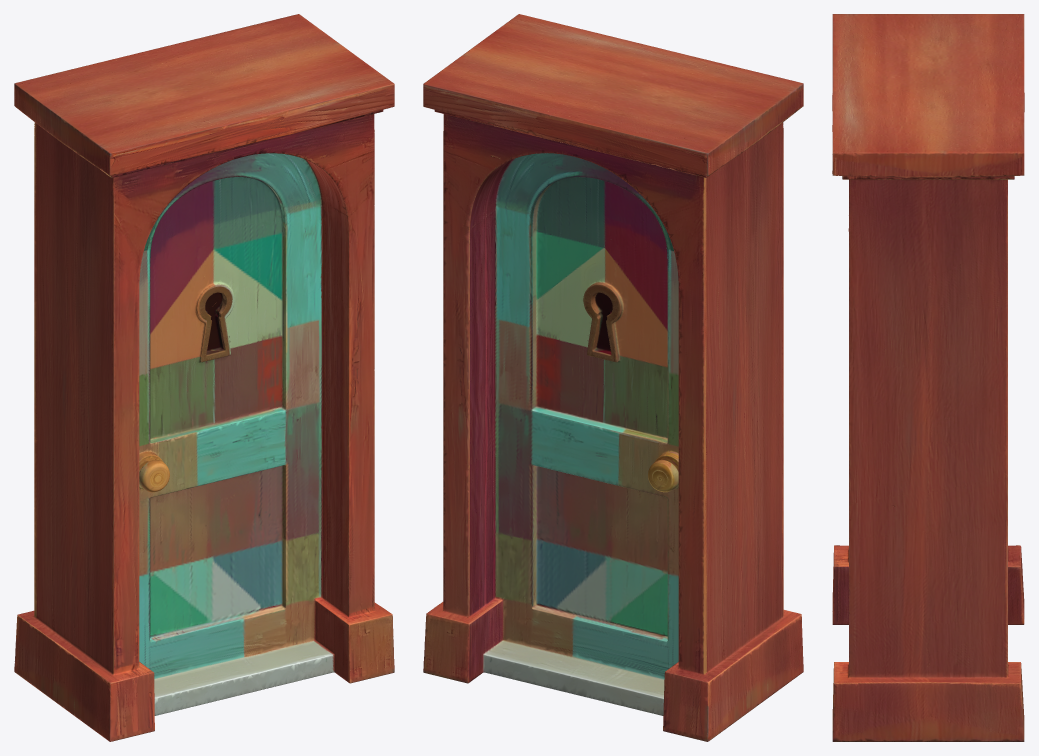
Rendered from Meshy_AI_Patchwork_Door_0417172344_texture.fbx.
The picture shows the model from 3 angles, left to right: view 1: azimuth 30°, elevation 25°; view 2: azimuth 150°, elevation 25°; view 3: azimuth 270°, elevation 25°; orthographic projection.
Visible parts, largest first — view 1: Mesh_0; view 2: Mesh_0; view 3: Mesh_0.
Part boxes in pixels (x1,y1,x2,y2): Mesh_0: (14,14,394,741); Mesh_0: (423,14,803,741); Mesh_0: (832,14,1024,741).
Size of the model in its own units: 96.23 by 190 by 56.16.
Materials: 1 (1 with a texture image).
